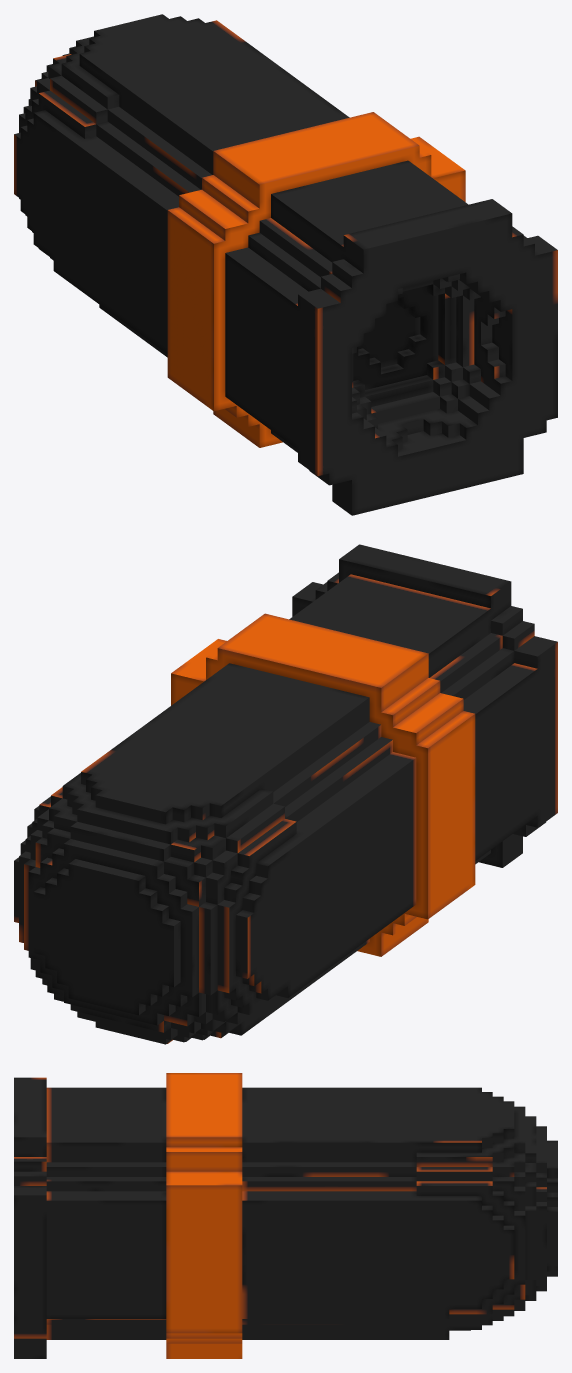
Rendered from BossCanon.fbx.
The picture shows the model from 3 angles, top to bottom: view 1: azimuth 30°, elevation 25°; view 2: azimuth 150°, elevation 25°; view 3: azimuth 270°, elevation 25°; orthographic projection. The views are drawn at different scales.
Visible parts, largest first — view 1: Untitled; view 2: Untitled; view 3: Untitled.
Boxes of the visible parts, bbox=[...] form: Untitled: bbox=[14, 14, 557, 515]; Untitled: bbox=[14, 544, 557, 1044]; Untitled: bbox=[14, 1073, 557, 1358].
Bounding box in the file's own units: 220 × 220 × 500.
